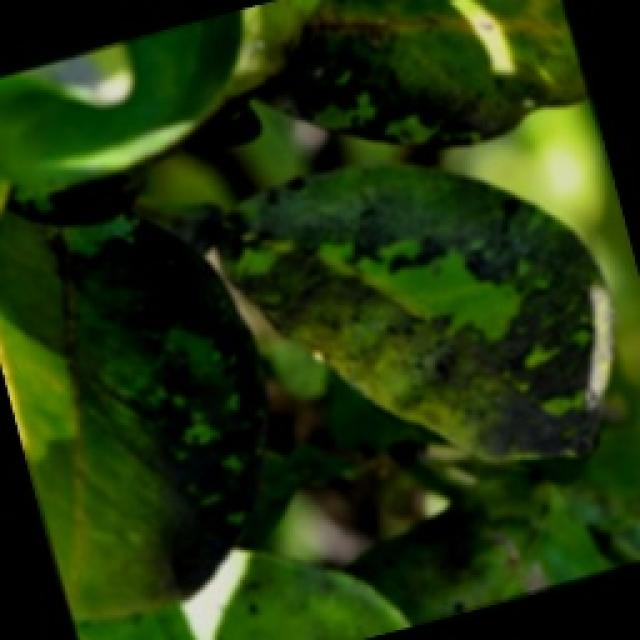Sooty Mold: (203, 160, 615, 465)
